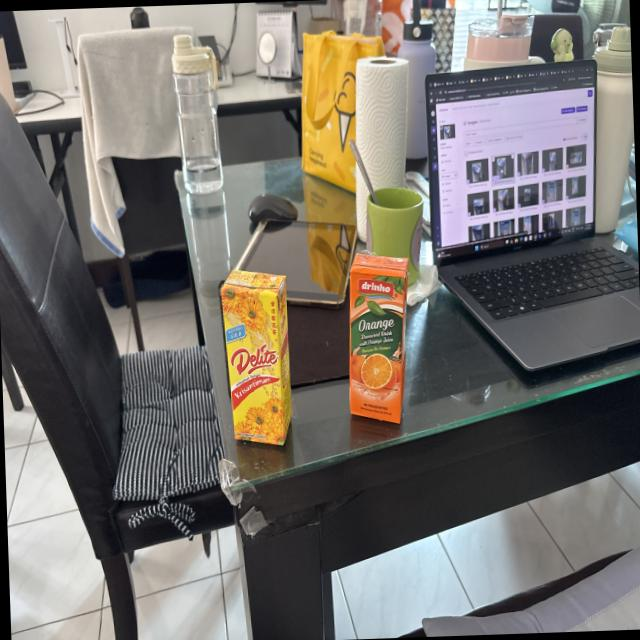drink_carton: (218, 256, 300, 450), (338, 245, 418, 434)
